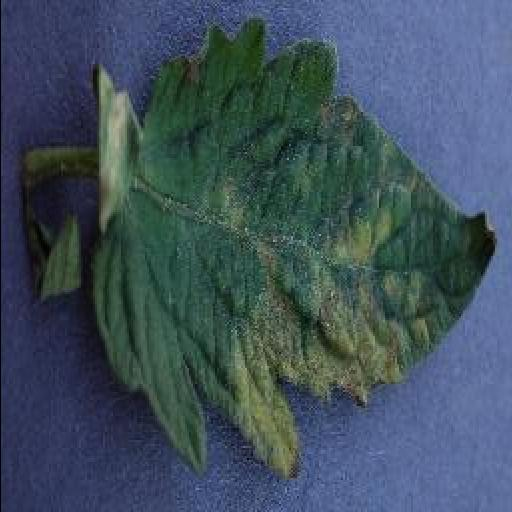disease_tomato: (90, 16, 500, 478)
